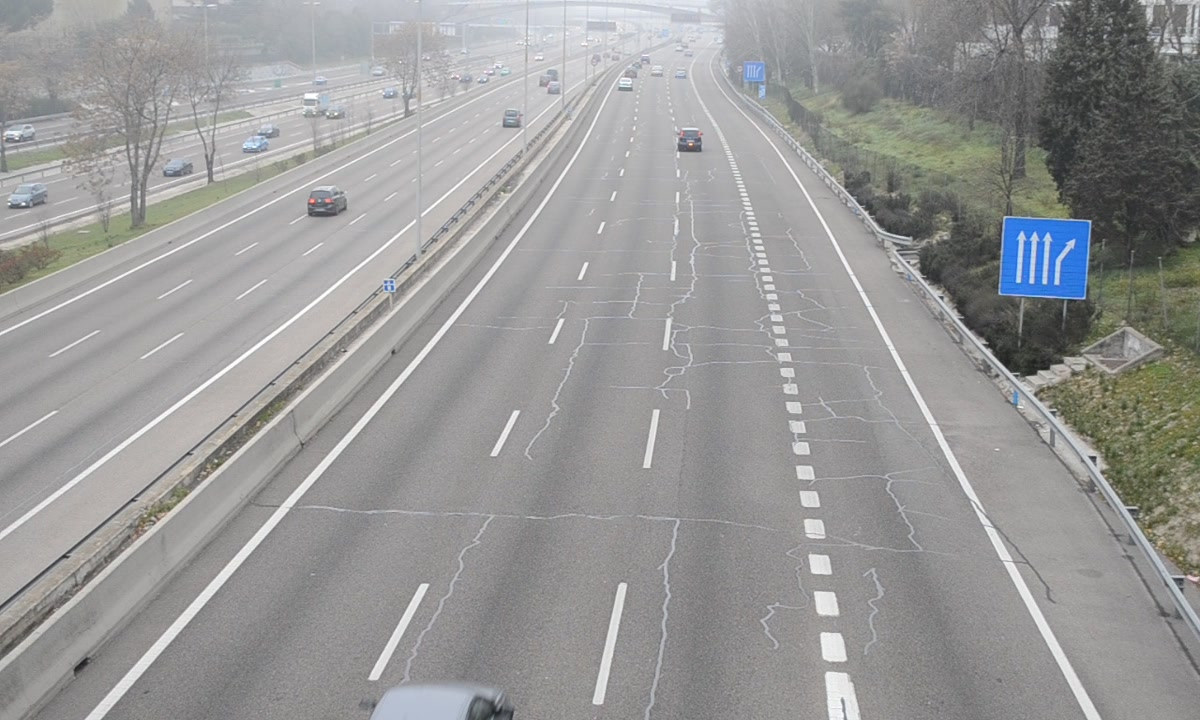car: (677, 126, 703, 152)
